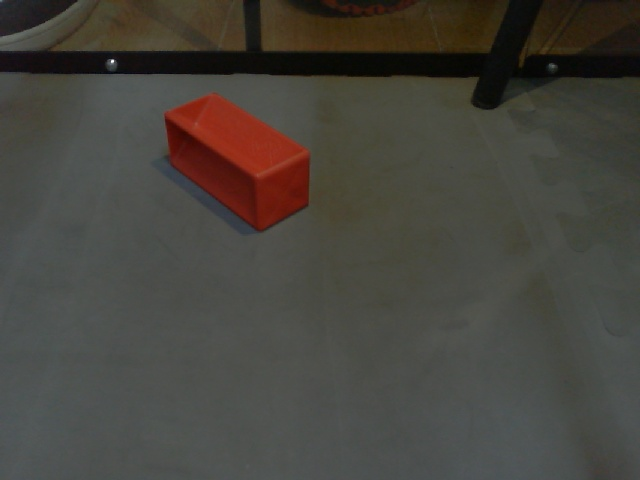RedSample: (163, 92, 315, 234)
